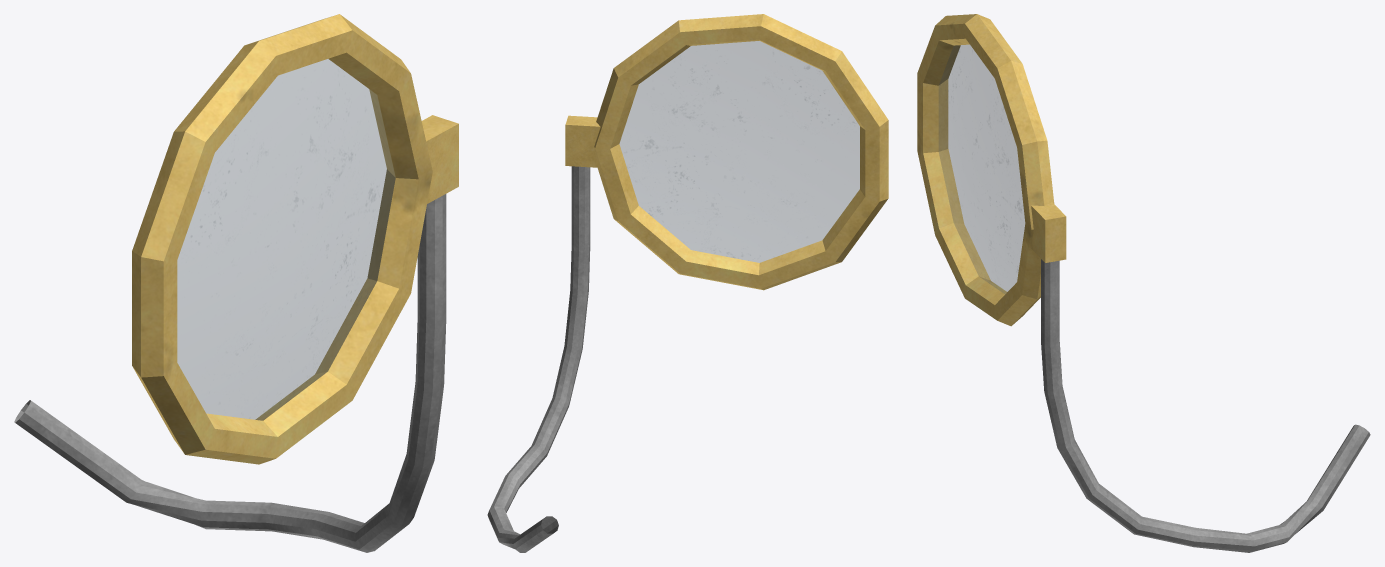
The model's file is Monocle.glb.
3 renders of one model, left to right at view 1: azimuth 30°, elevation 25°; view 2: azimuth 150°, elevation 25°; view 3: azimuth 270°, elevation 25°, orthographic. The views are drawn at different scales.
Parts seen in each view (by area): view 1: Monocle; view 2: Monocle; view 3: Monocle.
Part boxes in pixels (bbox=[...]): Monocle: bbox=[14, 14, 458, 552]; Monocle: bbox=[487, 14, 888, 552]; Monocle: bbox=[917, 14, 1370, 552].
Bounding box in the file's own units: 2.4 × 3.92 × 3.41.
Materials: 1 (1 with a texture image).
